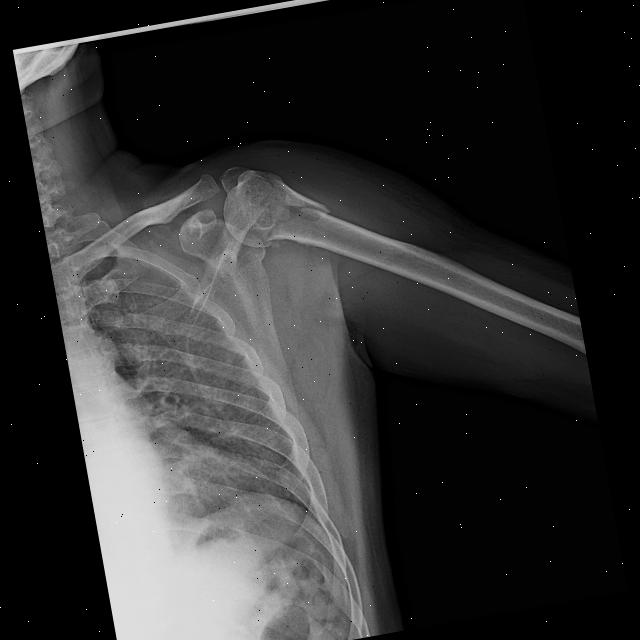Fracture: (268, 181, 330, 229)
